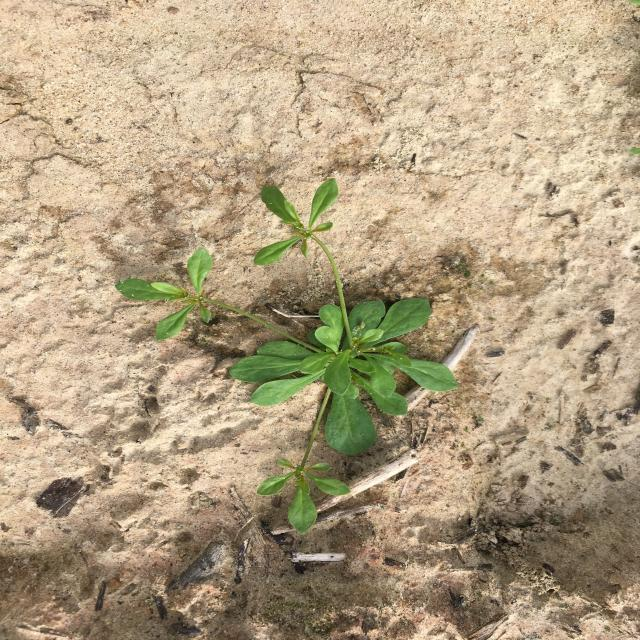Carpetweed: (115, 178, 459, 534)
